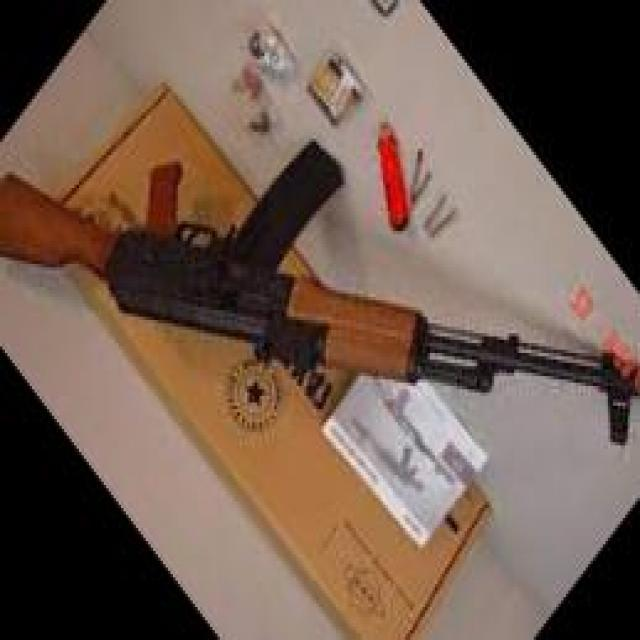weapon: (0, 140, 639, 447)
